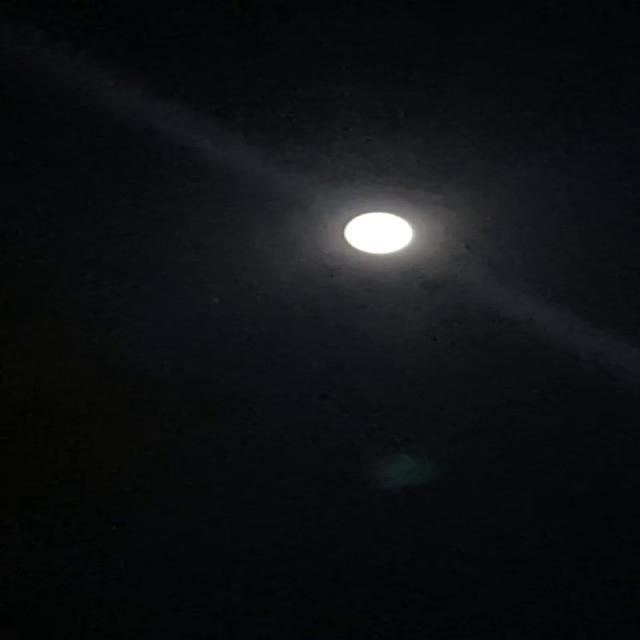moon: (312, 204, 428, 262)
